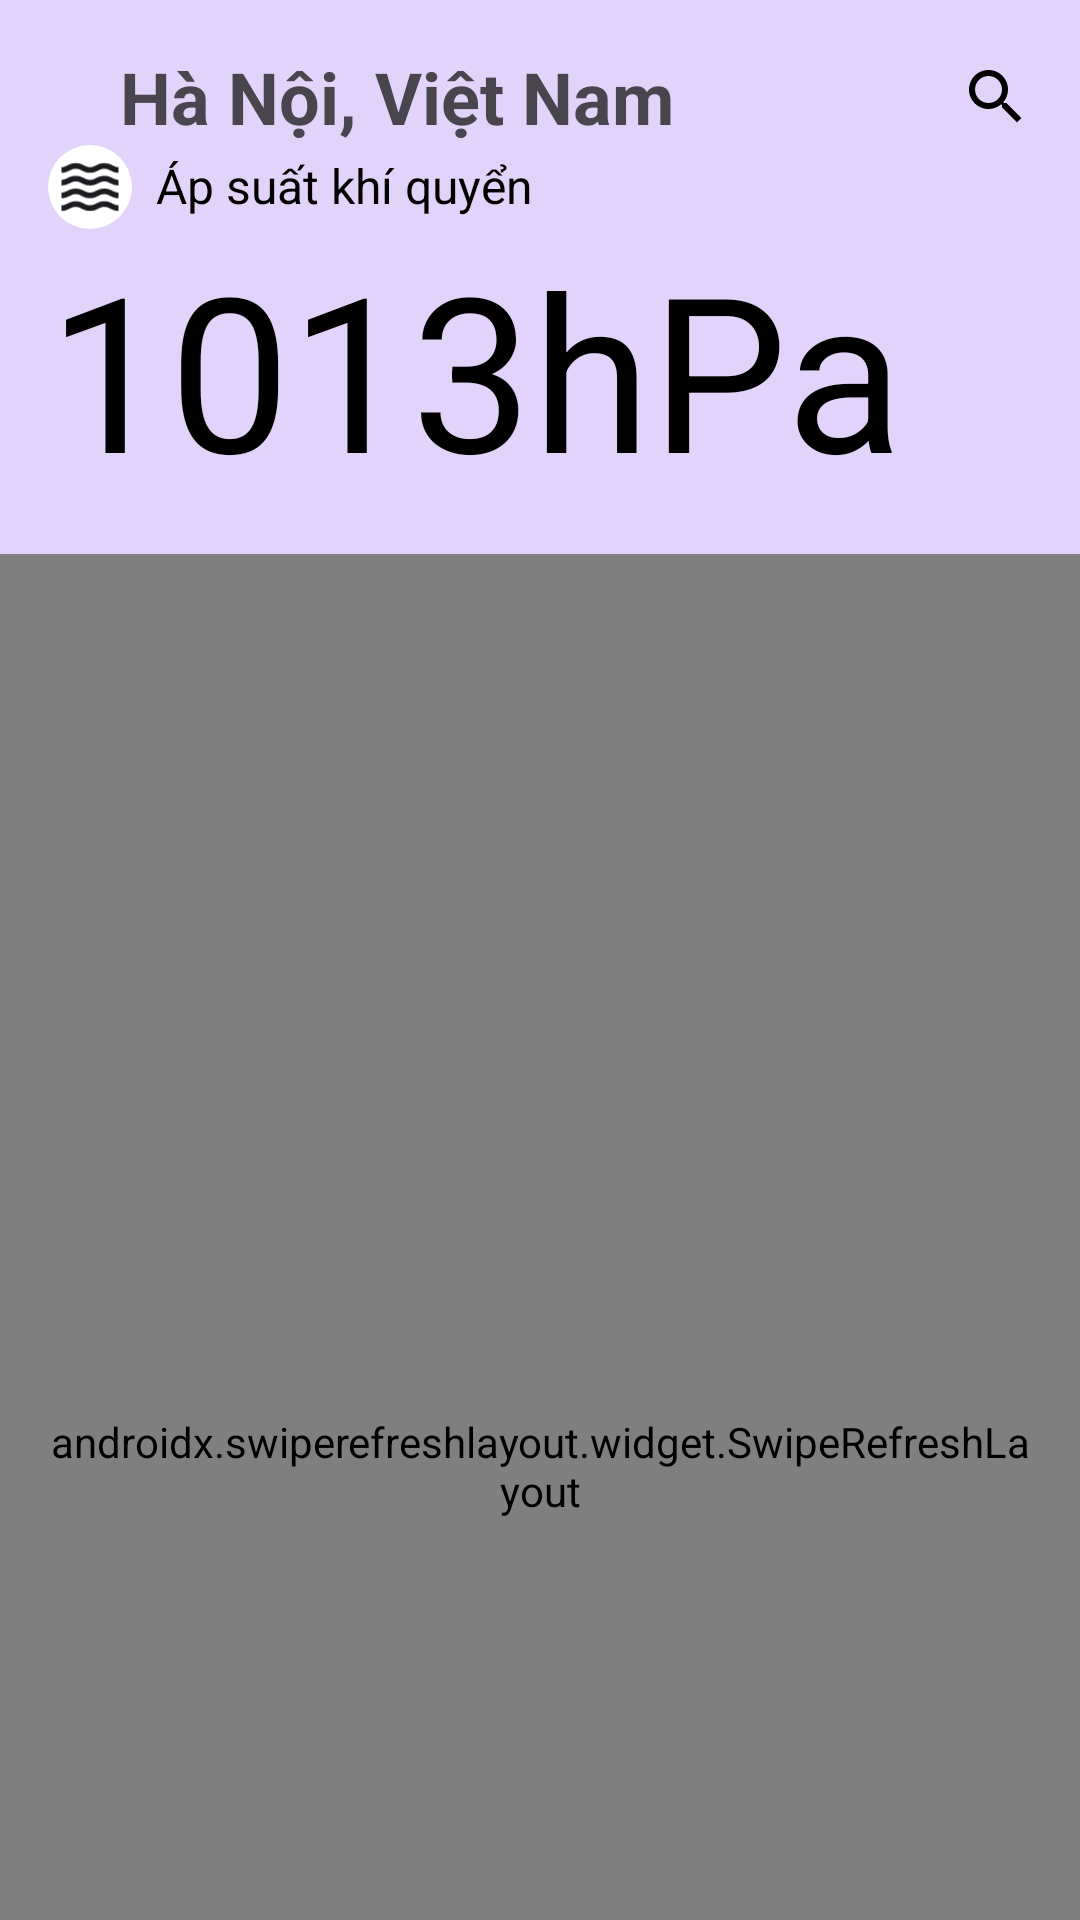

Where icons sit on this 1080*1920 app screen, as (x1, y1, x2, y2):
search: (969, 70, 1021, 122)
